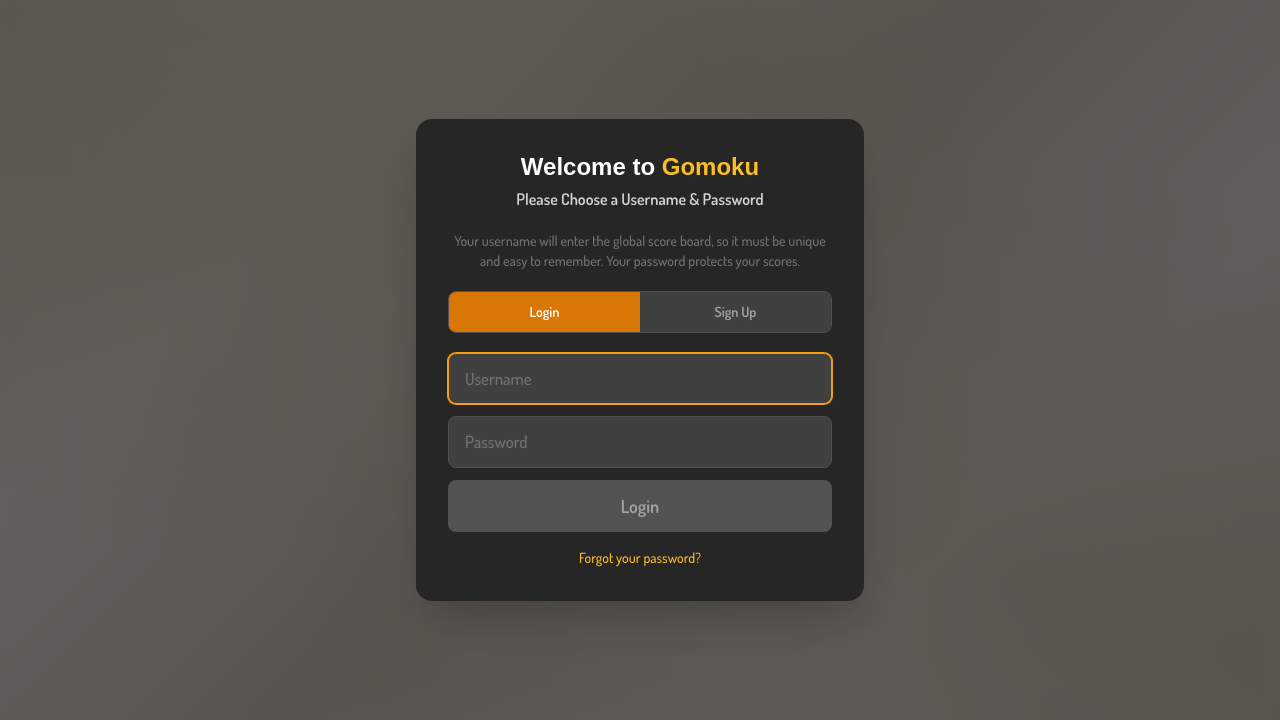
Test: AuthModal › switches to signup tab and shows signup fields
Click the button "Sign Up".
click(736, 312)  # box x1=640 y1=292 x2=831 y2=332
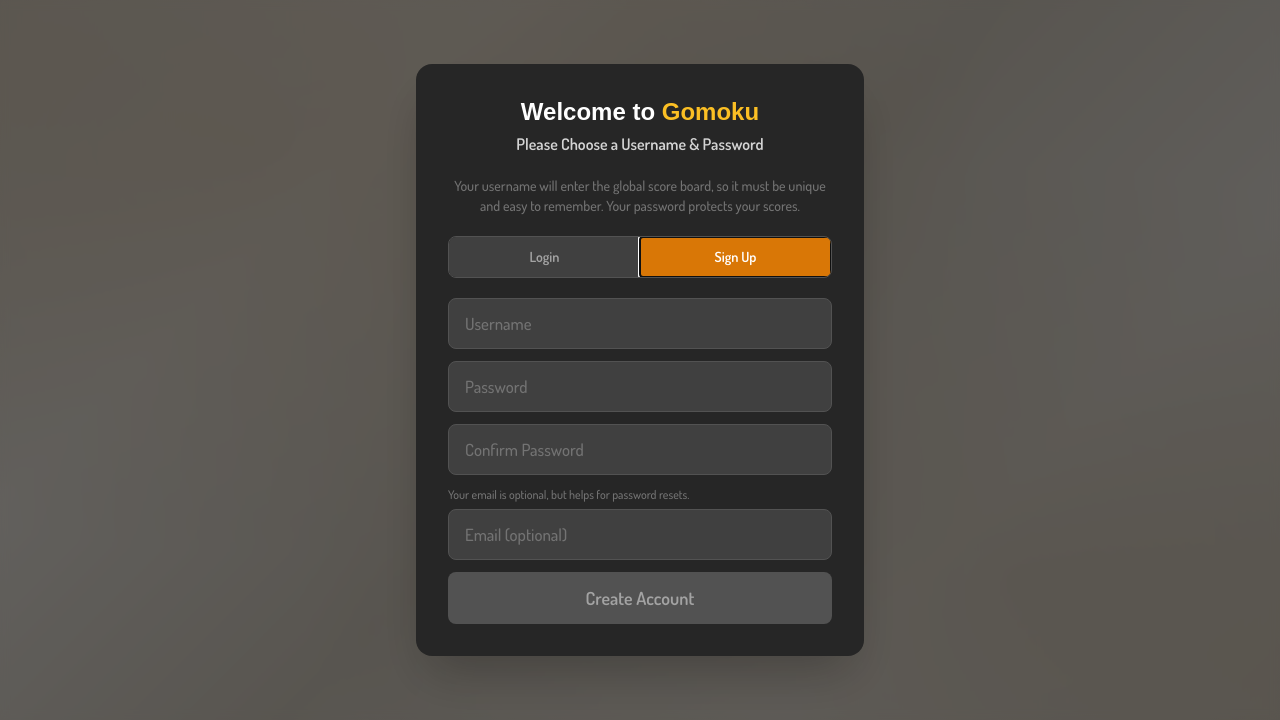
Now the password field with placeholder "Confirm Password" is shown, box x1=448 y1=424 x2=832 y2=475
Now the field with placeholder "Email (optional)" is shown, box x1=448 y1=509 x2=832 y2=560
